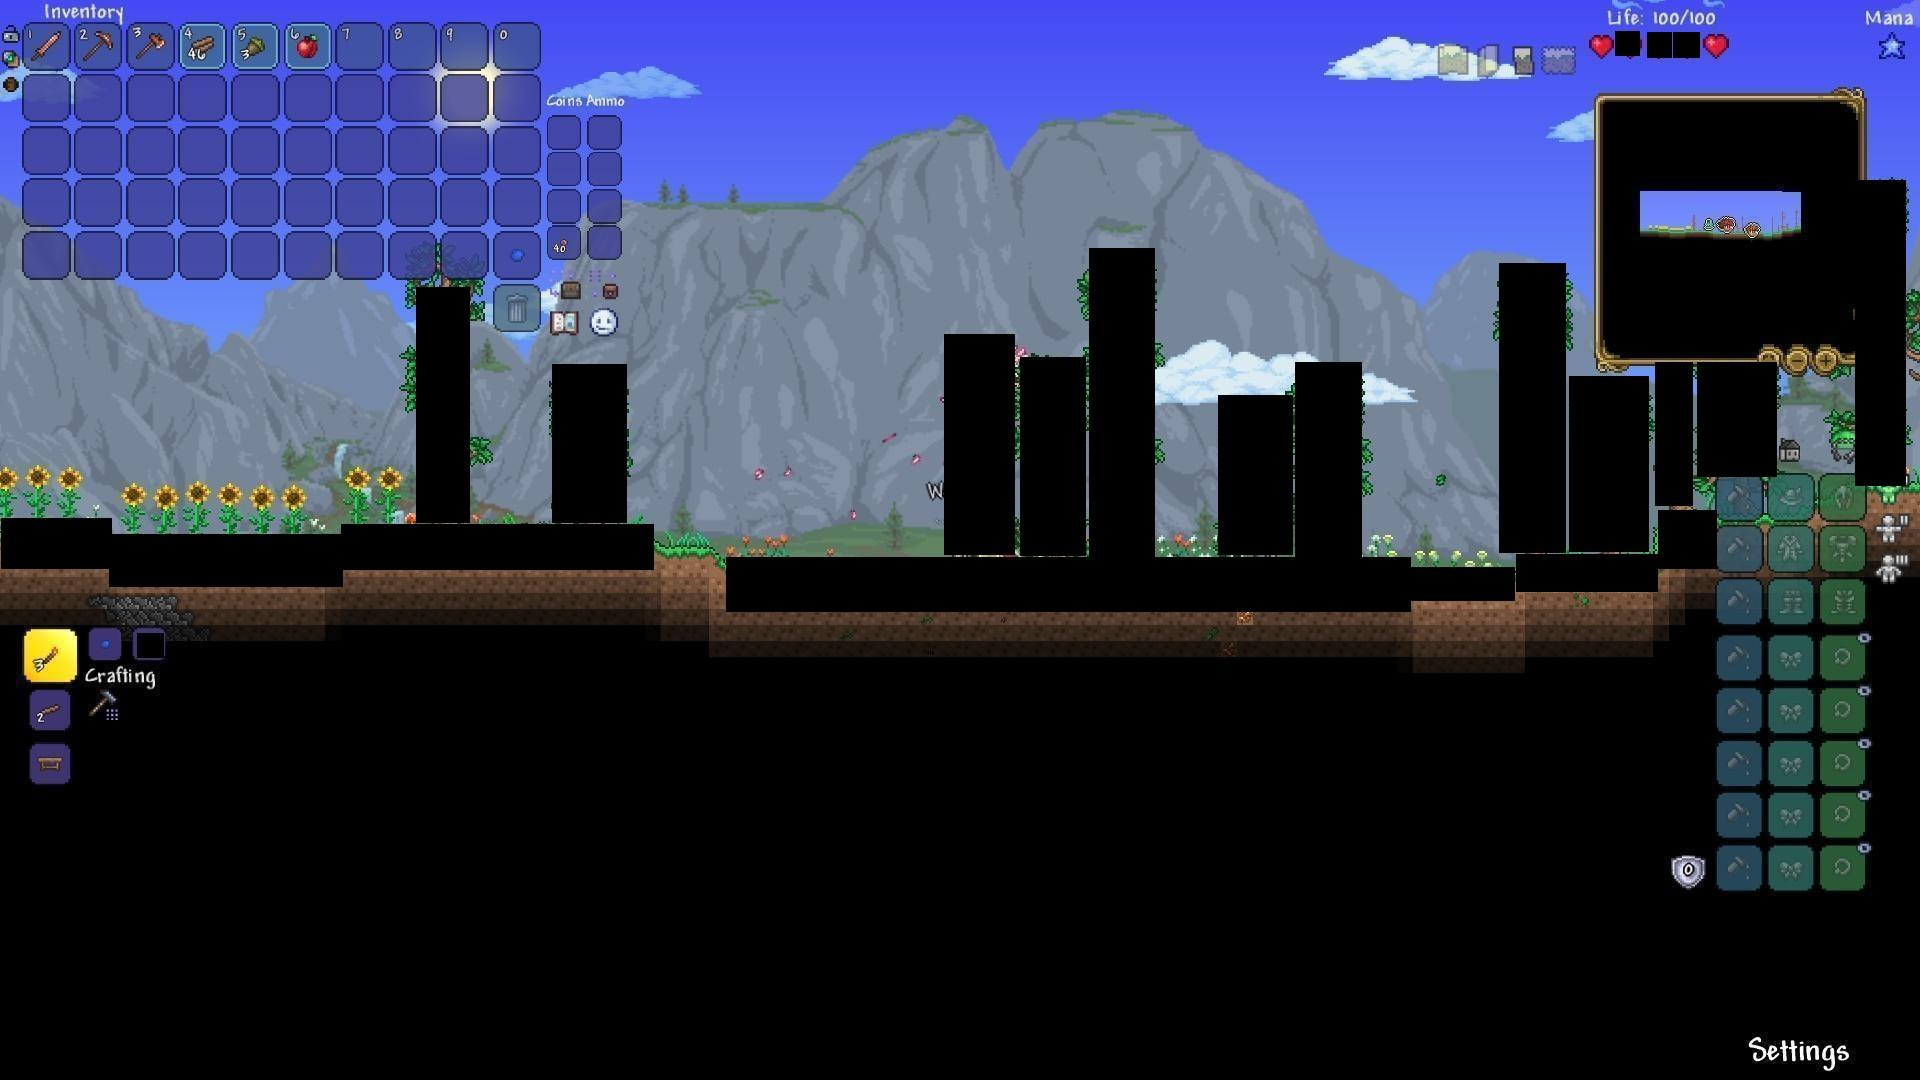dirt: (653, 534, 723, 583)
heart: (1704, 33, 1727, 57), (1590, 32, 1613, 54)
wood: (189, 34, 215, 59)
workbench: (32, 750, 69, 775)
